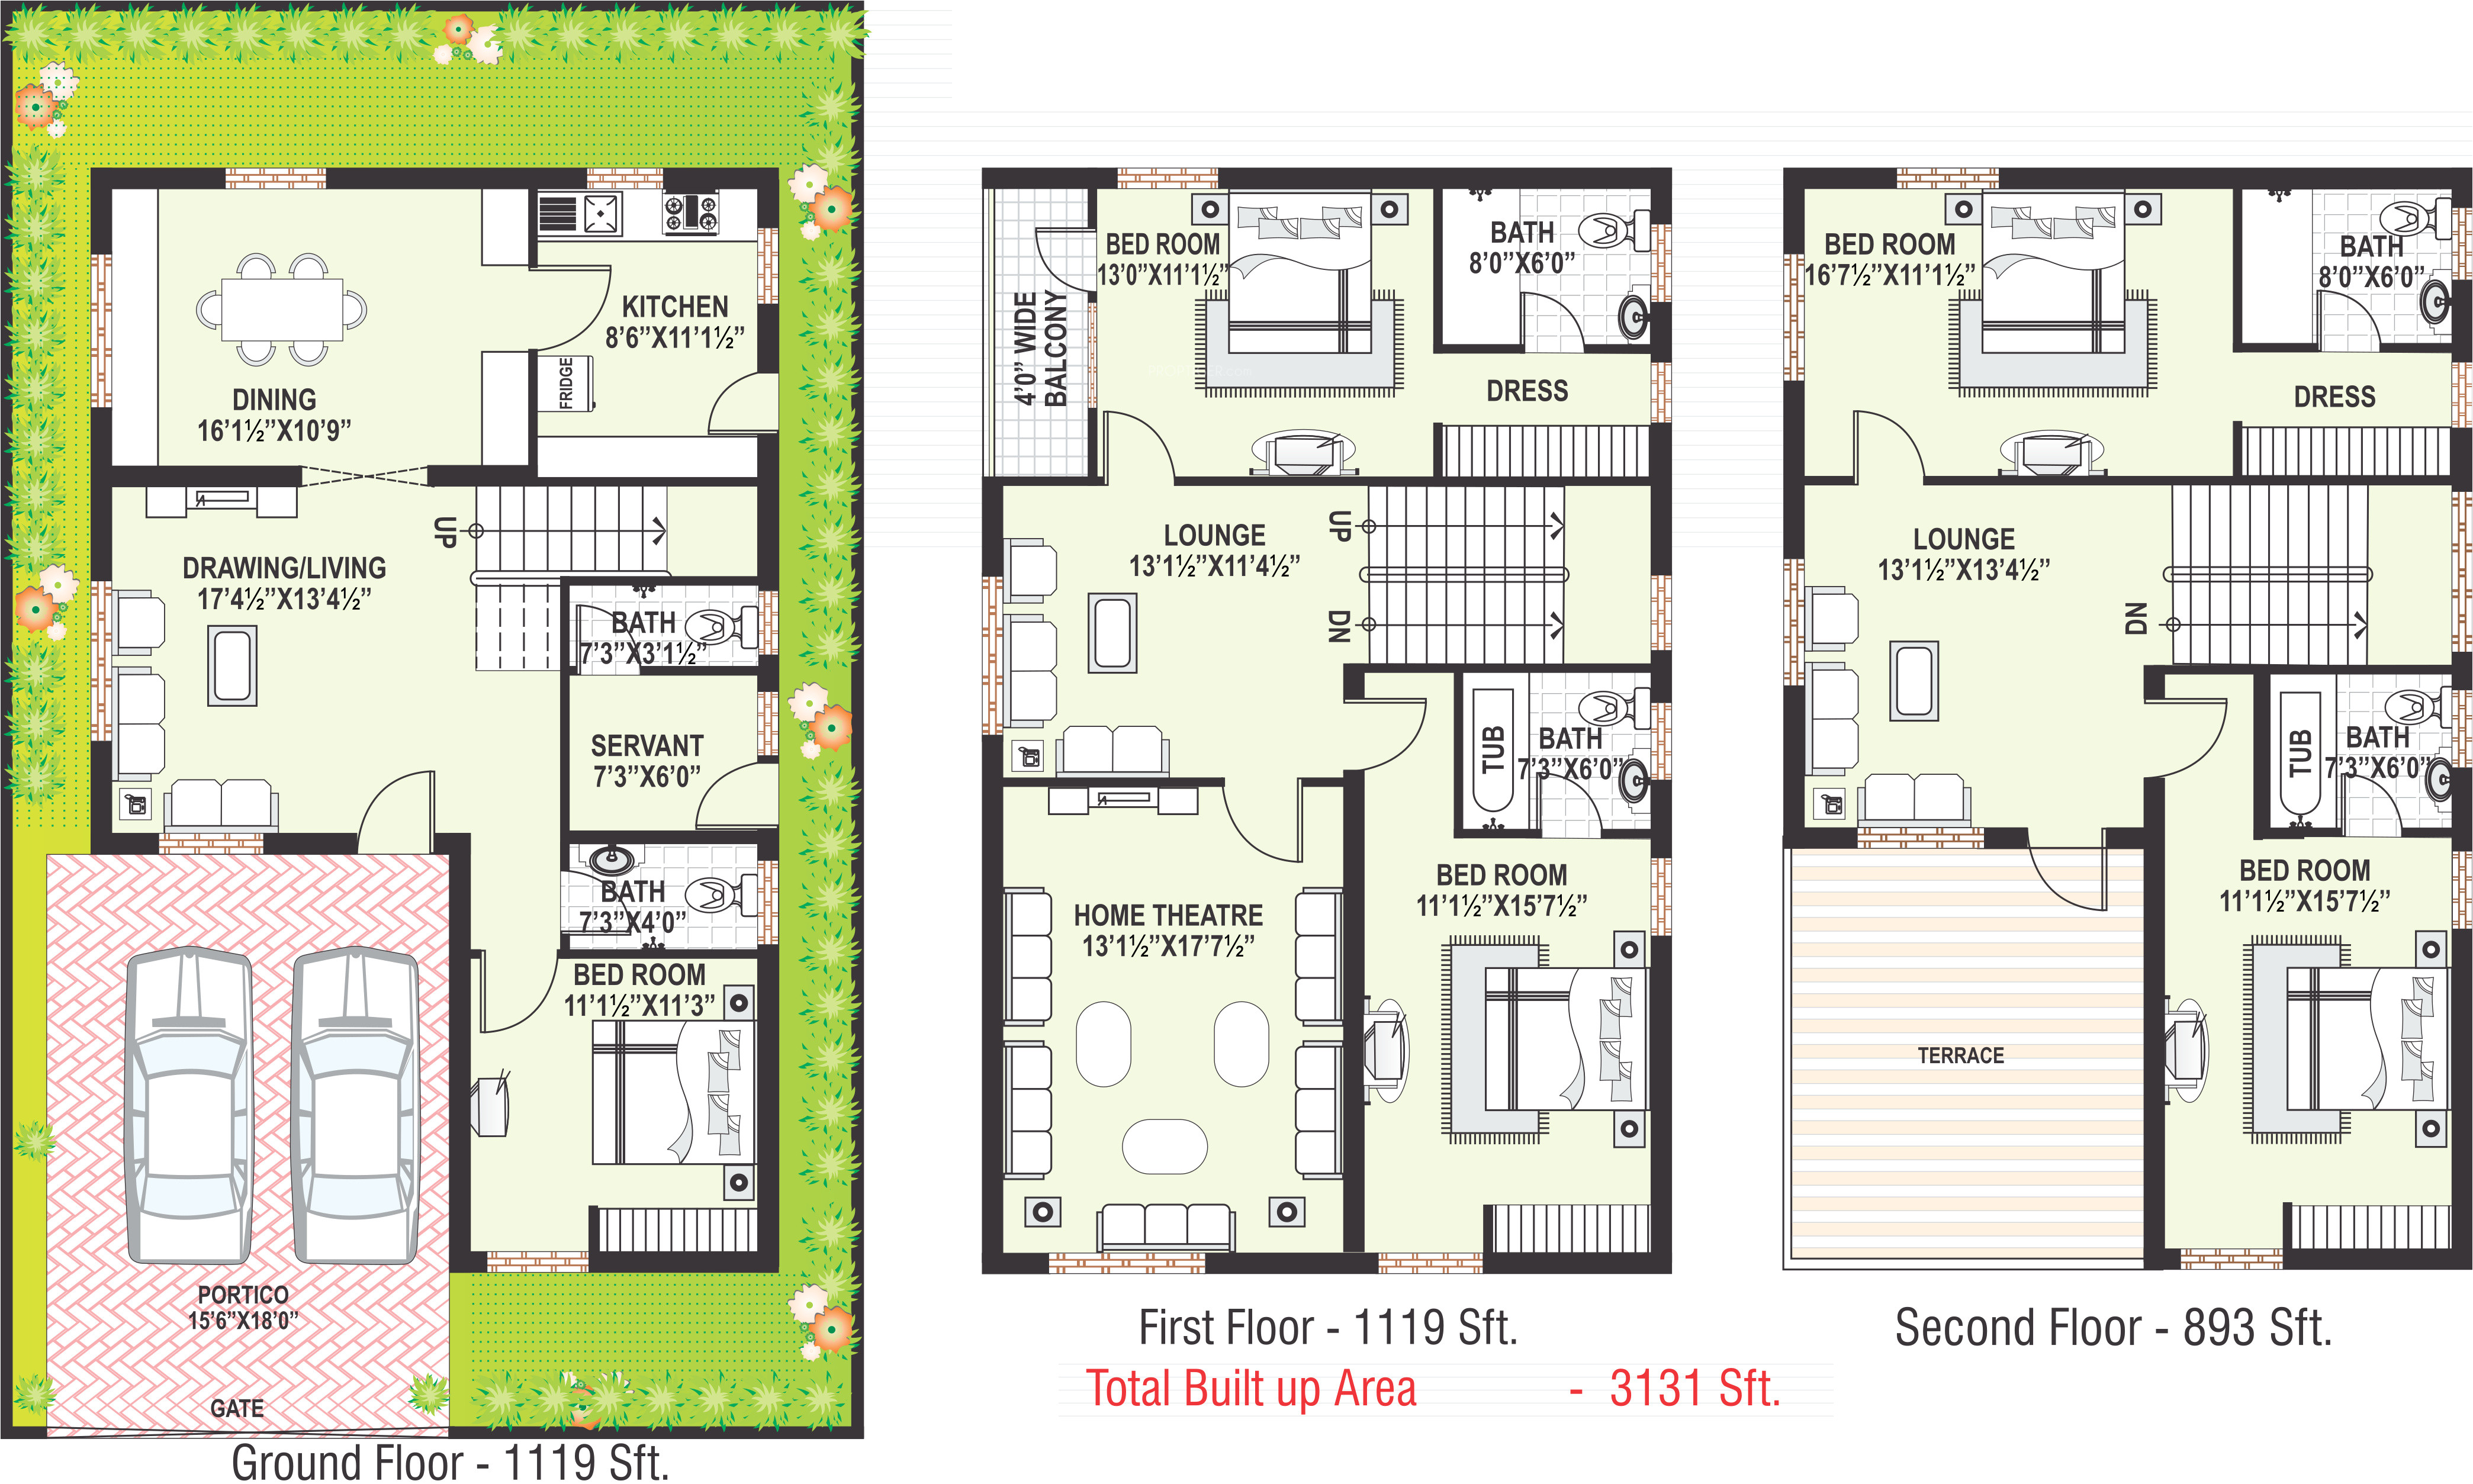door: (1337, 696, 1436, 772), (537, 256, 613, 353), (2144, 694, 2231, 779), (2030, 848, 2113, 936), (1222, 779, 1305, 866), (475, 956, 560, 1035), (353, 767, 440, 839), (1849, 406, 1925, 486), (696, 761, 777, 834), (1100, 410, 1182, 482), (1516, 283, 1588, 348), (1033, 224, 1097, 290), (701, 371, 765, 436)
